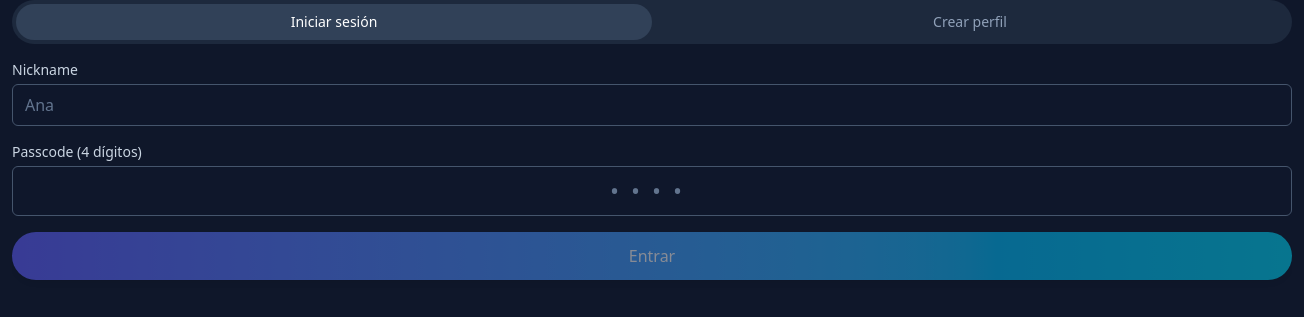
Scenario: <AuthForm /> › shows an in-app hint (not just relying on the native tooltip) once the field is touched and invalid
Type "12" into the password field with test id "passcode" at (652, 191), box [12, 166, 1292, 216]
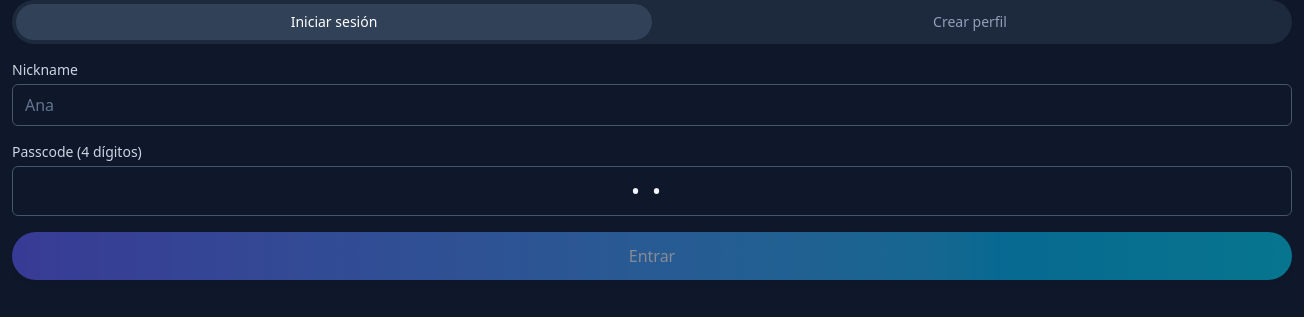
Leave the password field with test id "passcode", box [12, 166, 1292, 216]
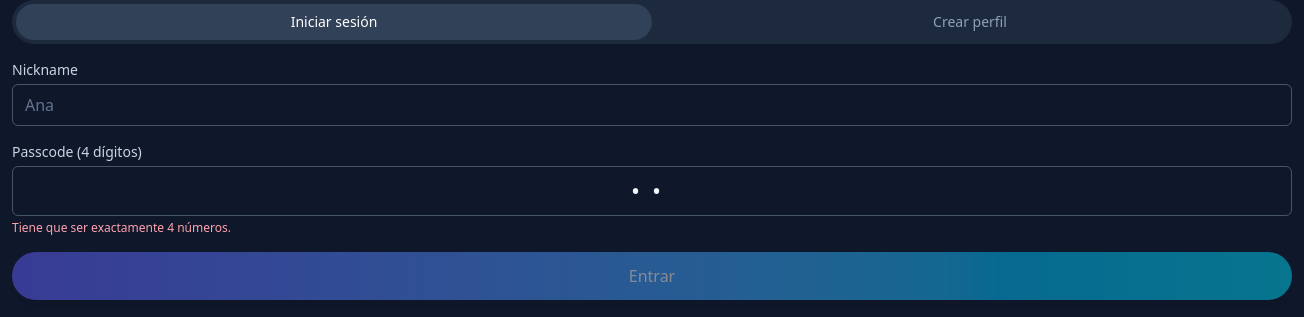
Check: the text "Tiene que ser exactamente 4 números." is shown, box [12, 219, 231, 236]
